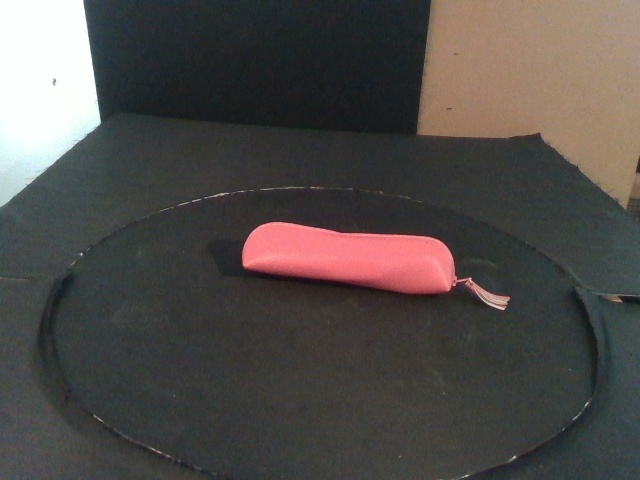pencil_case: (240, 222, 458, 296)
